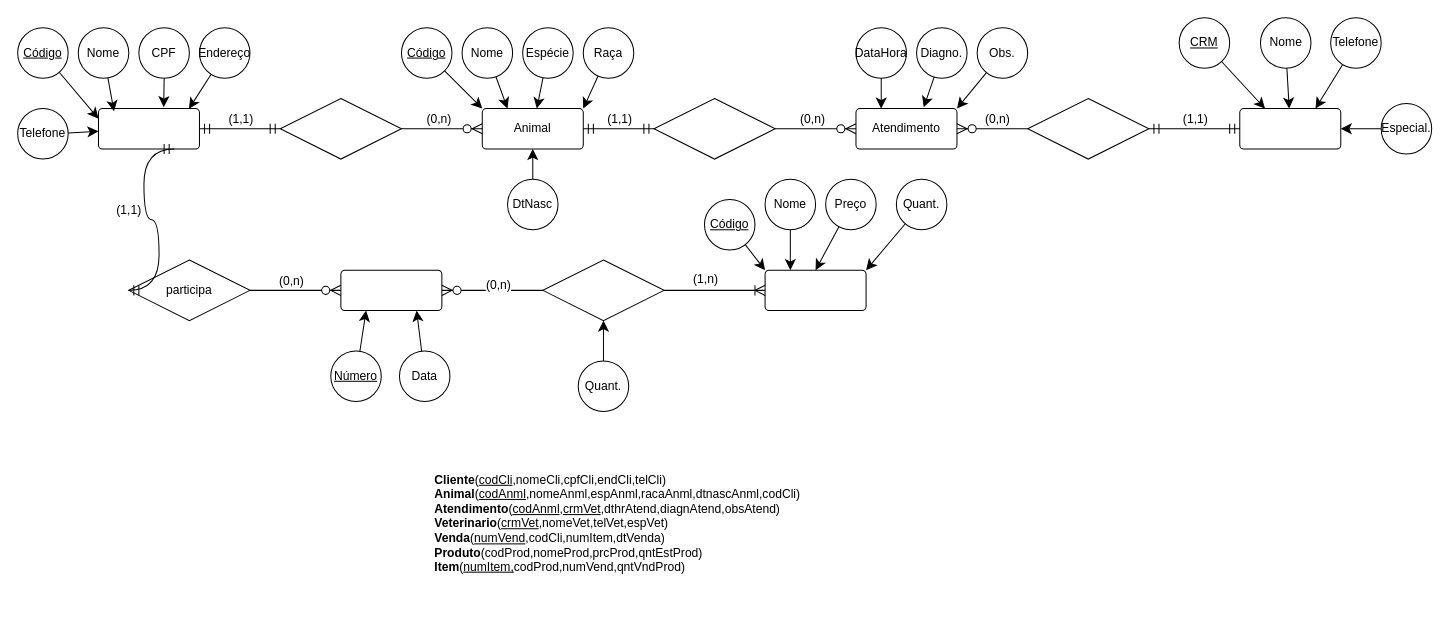
Image size: 1449x638. Some labels were removed from this diagram. The box of each missing label's shape, as (x1, y1, x2, y2) in pixels:
Atendido: (653, 97, 775, 159)
Cliente: (97, 108, 199, 149)
item: (542, 259, 664, 321)
possui: (279, 97, 401, 159)
Produto: (764, 269, 866, 311)
Realizado: (1027, 97, 1149, 159)
Venda: (340, 269, 442, 311)
Veterinário: (1239, 108, 1341, 149)
